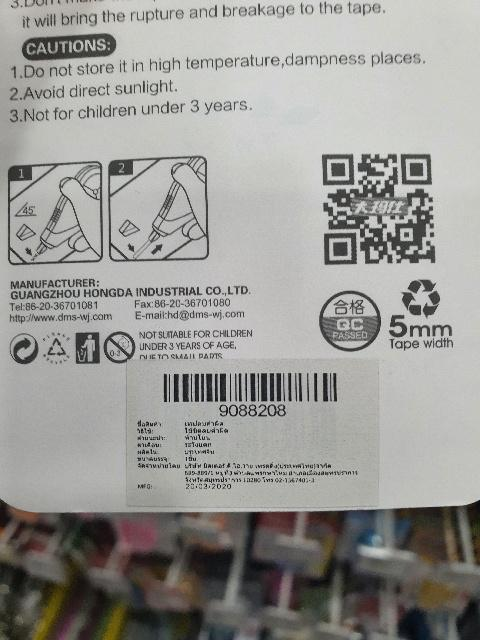Barcode: (156, 366, 346, 417)
